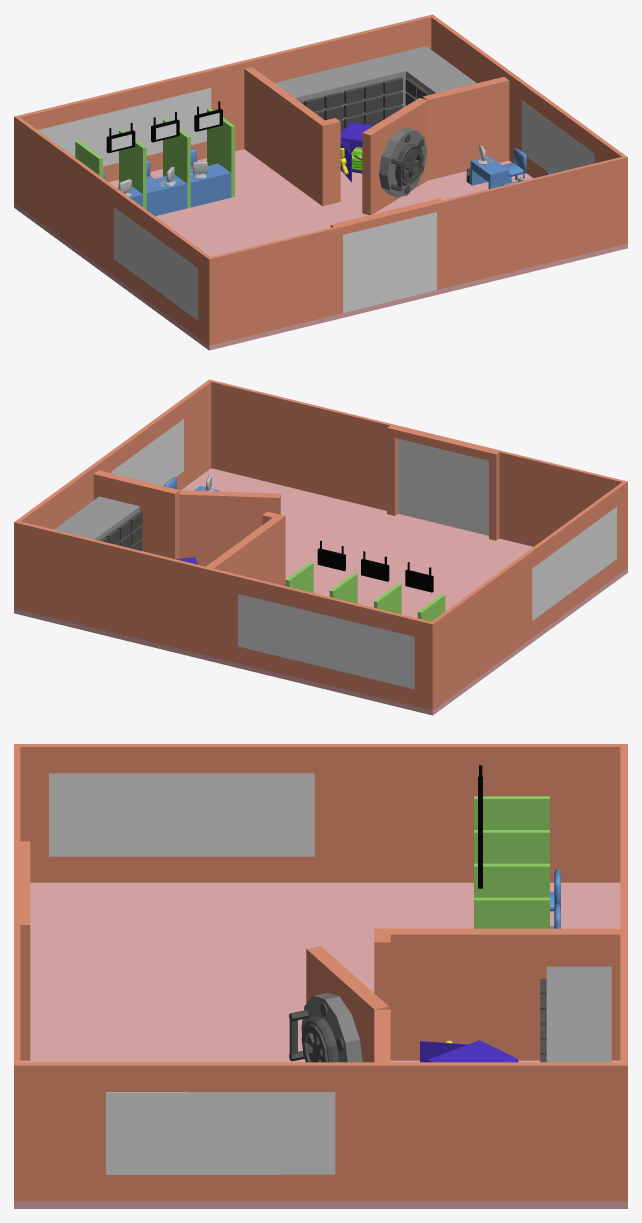
Rendered from bank.fbx.
The picture shows the model from 3 angles, top to bottom: view 1: azimuth 30°, elevation 25°; view 2: azimuth 150°, elevation 25°; view 3: azimuth 270°, elevation 25°; orthographic projection. The views are drawn at different scales.
Visible parts, largest first — view 1: uv_ana_duvar, uv_zemin, uv_kasa, uv_kasa_duvar_2, uv_kasa_duvar_1, uv_kasa_kapi, cam_3, cam_1, kapi_1, kapi_2, cam_2, uv_kapi (+11 smaller); view 2: uv_ana_duvar, uv_zemin, cam_3, uv_kasa_kapi, cam_1, uv_kasa_duvar_1, kapi_2, kapi_1, uv_kasa_duvar_2, uv_kapi, uv_kasa, cam_2 (+7 smaller); view 3: uv_ana_duvar, uv_zemin, uv_kasa_duvar_2, cam_1, cam_2, uv_kasa_kapi, uv_kasa, uv_kapi, Cube.006, Cube.012, Cube.007, Cube.008 (+2 smaller).
Part boxes in pixels (x1=…): uv_ana_duvar: x1=14, y1=14, x2=627, y2=345; uv_zemin: x1=14, y1=149, x2=627, y2=350; uv_kasa: x1=274, y1=46, x2=476, y2=132; uv_kasa_duvar_2: x1=244, y1=67, x2=340, y2=206; uv_kasa_duvar_1: x1=423, y1=77, x2=509, y2=180; uv_kasa_kapi: x1=362, y1=98, x2=427, y2=215; cam_3: x1=38, y1=88, x2=211, y2=166; cam_1: x1=113, y1=207, x2=197, y2=320; kapi_1: x1=343, y1=223, x2=389, y2=312; kapi_2: x1=390, y1=212, x2=436, y2=301; cam_2: x1=521, y1=100, x2=594, y2=173; uv_kapi: x1=330, y1=198, x2=444, y2=314; uv_ana_duvar: x1=14, y1=379, x2=627, y2=710; uv_zemin: x1=14, y1=468, x2=627, y2=715; cam_3: x1=238, y1=594, x2=414, y2=689; uv_kasa_kapi: x1=179, y1=490, x2=280, y2=566; cam_1: x1=532, y1=507, x2=616, y2=620; uv_kasa_duvar_1: x1=93, y1=470, x2=179, y2=558; kapi_2: x1=398, y1=438, x2=444, y2=524; kapi_1: x1=445, y1=450, x2=488, y2=535; uv_kasa_duvar_2: x1=206, y1=511, x2=285, y2=585; uv_kapi: x1=387, y1=424, x2=500, y2=540; uv_kasa: x1=54, y1=496, x2=142, y2=550; cam_2: x1=111, y1=419, x2=183, y2=485; uv_ana_duvar: x1=14, y1=744, x2=627, y2=1201; uv_zemin: x1=14, y1=882, x2=627, y2=1208; uv_kasa_duvar_2: x1=374, y1=928, x2=620, y2=1060; cam_1: x1=49, y1=773, x2=314, y2=856; cam_2: x1=106, y1=1092, x2=335, y2=1174; uv_kasa_kapi: x1=289, y1=946, x2=388, y2=1062; uv_kasa: x1=540, y1=966, x2=611, y2=1062; uv_kapi: x1=14, y1=841, x2=30, y2=1060; Cube.006: x1=474, y1=863, x2=549, y2=897; Cube.012: x1=474, y1=897, x2=549, y2=928; Cube.007: x1=474, y1=830, x2=549, y2=863; Cube.008: x1=474, y1=796, x2=549, y2=829.
Bounding box in the file's own units: 106 × 85.89 × 24.63.
